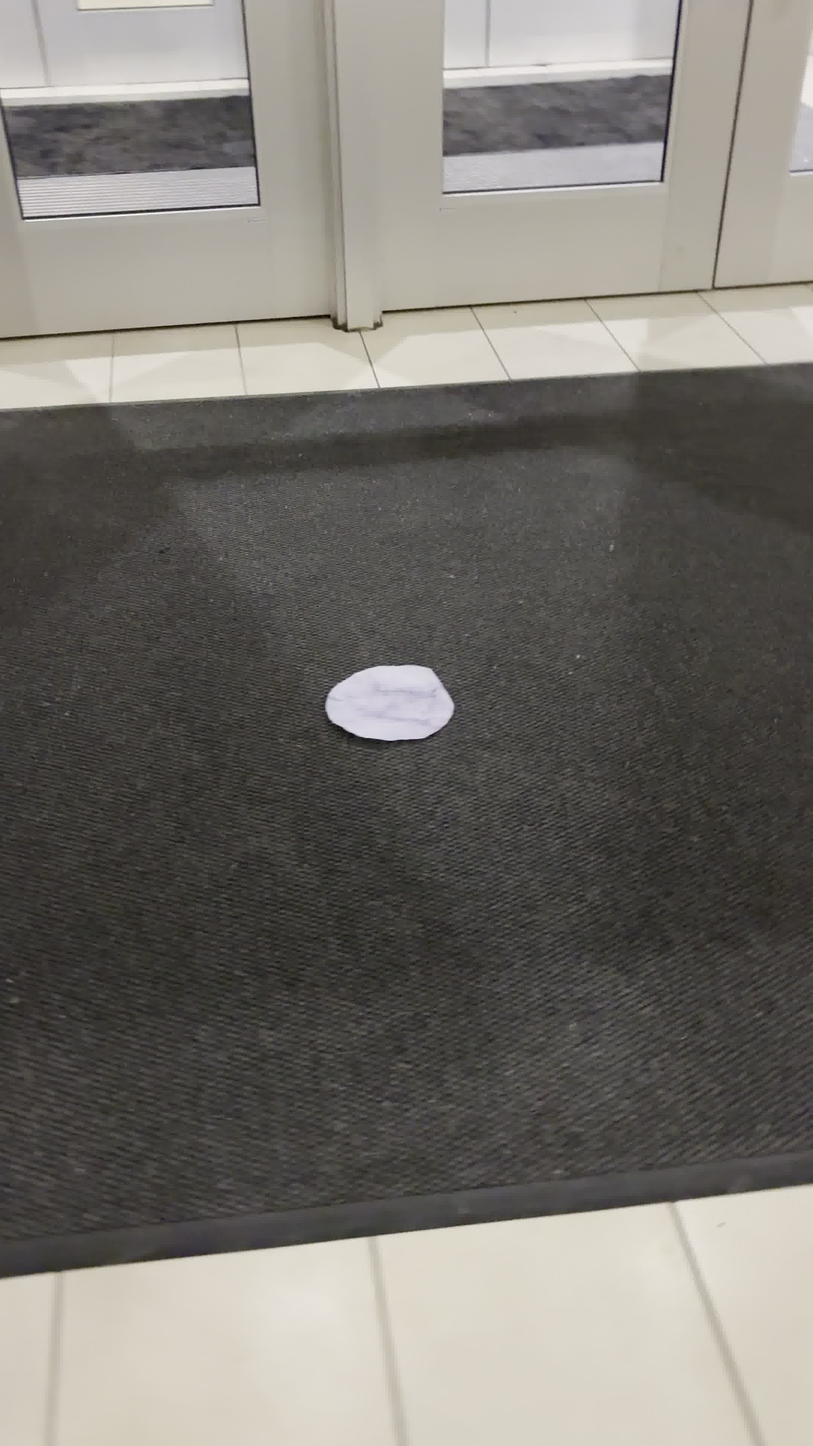Target: (325, 665, 454, 741)
